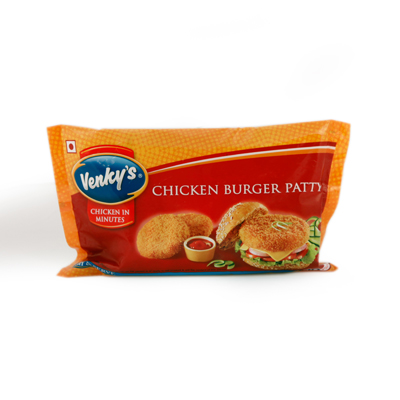nonveg_red: (64, 138, 77, 154)
